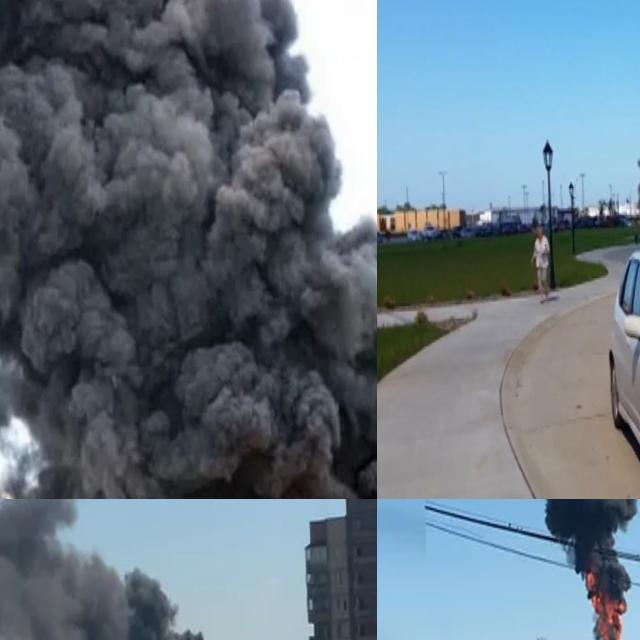smoke: (0, 0, 377, 499), (0, 499, 230, 640), (503, 499, 640, 640)
